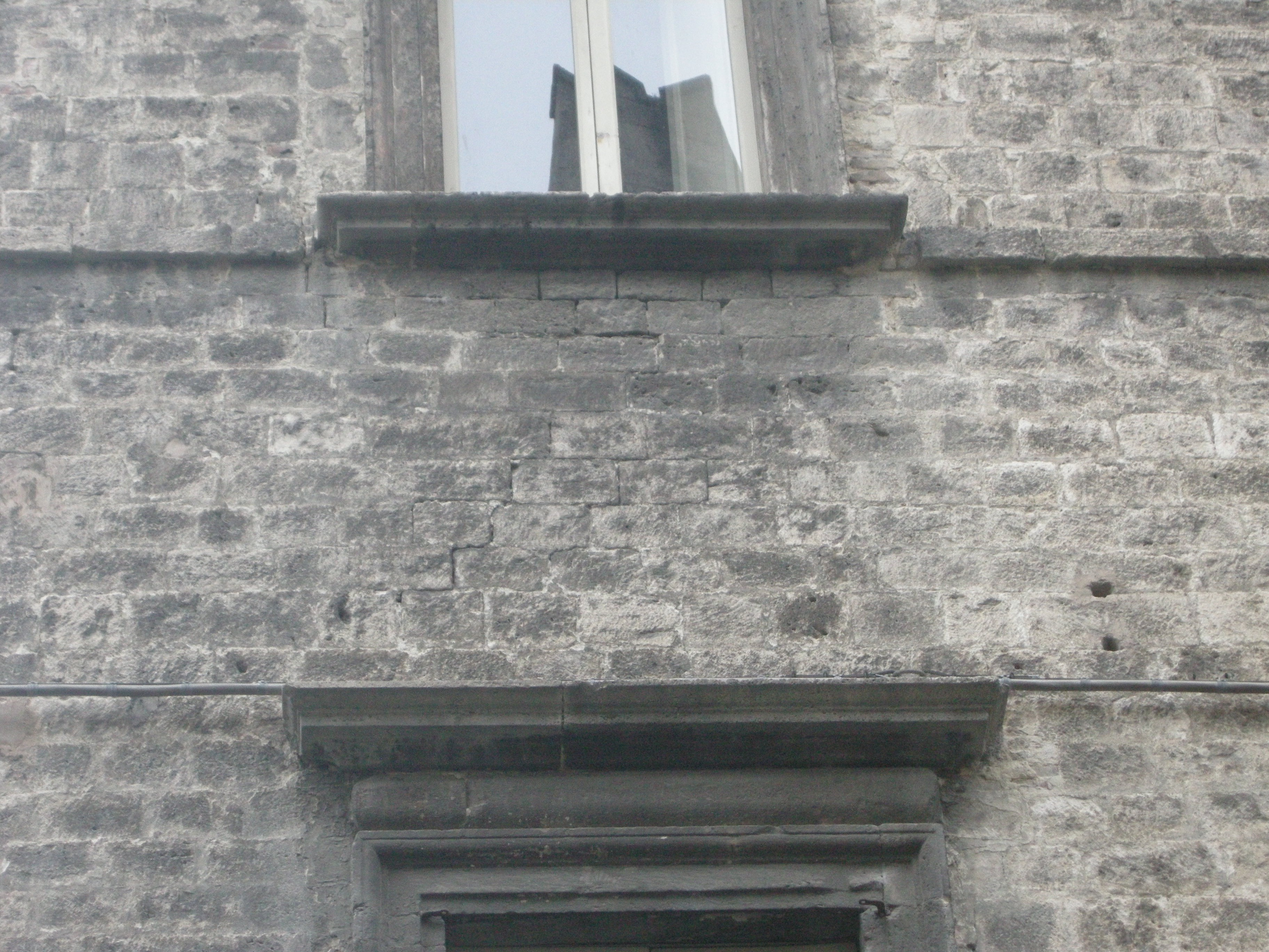Crack: (296, 286, 552, 667)
